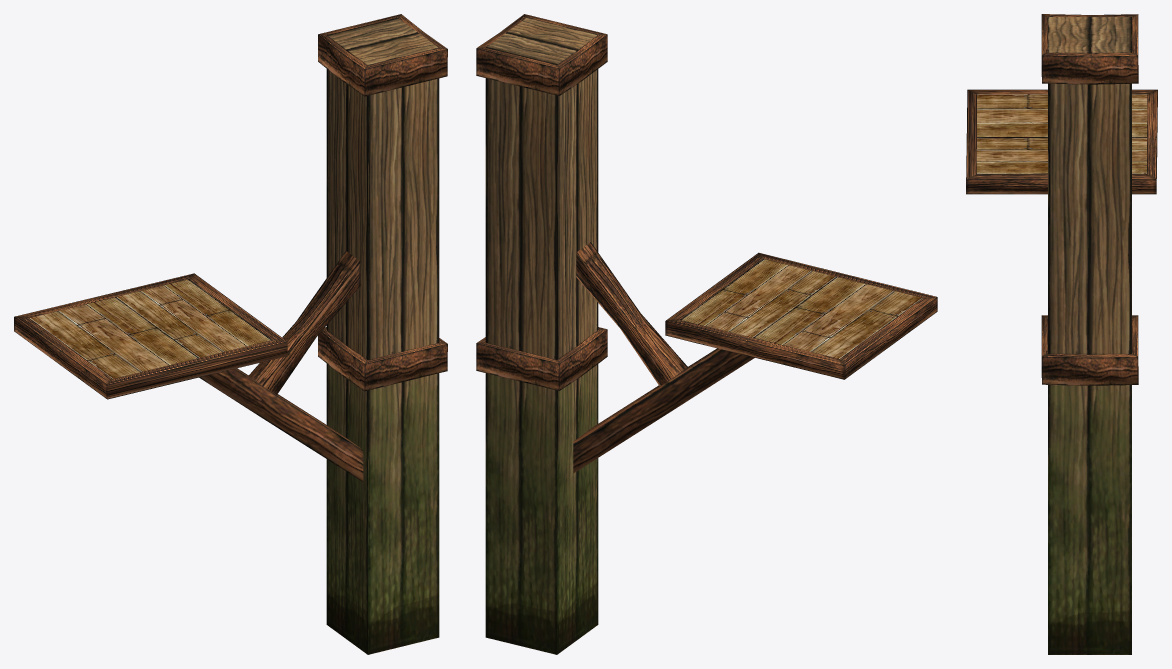
File: LAKETOWN_WAREHOUSE2_PS_WH2_MILL_BASE99438__GX.fbx
3 views of the same model, side by side, from view 1: azimuth 30°, elevation 25°; view 2: azimuth 150°, elevation 25°; view 3: azimuth 270°, elevation 25° (orthographic). The views are drawn at different scales.
Visible parts, largest first — view 1: LAKETOWN_WAREHOUSE2_PS_WH2_MILL_BASE99438__GX; view 2: LAKETOWN_WAREHOUSE2_PS_WH2_MILL_BASE99438__GX; view 3: LAKETOWN_WAREHOUSE2_PS_WH2_MILL_BASE99438__GX.
Part boxes in pixels (x1=…): LAKETOWN_WAREHOUSE2_PS_WH2_MILL_BASE99438__GX: x1=14, y1=14, x2=447, y2=654; LAKETOWN_WAREHOUSE2_PS_WH2_MILL_BASE99438__GX: x1=476, y1=14, x2=937, y2=654; LAKETOWN_WAREHOUSE2_PS_WH2_MILL_BASE99438__GX: x1=966, y1=14, x2=1157, y2=654.
Size of the model in its own units: 52998 by 79094 by 22811.
4 materials, 4 textured.
